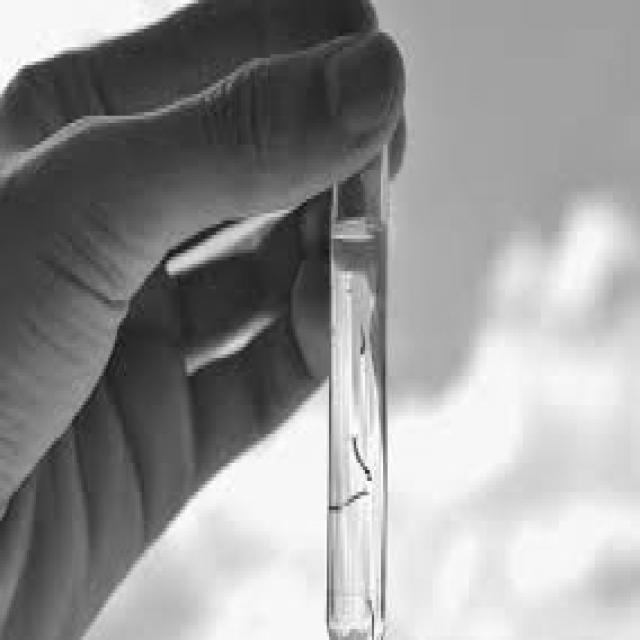larvas: (332, 488, 370, 518), (352, 436, 374, 480), (366, 596, 376, 639), (359, 326, 368, 364)
